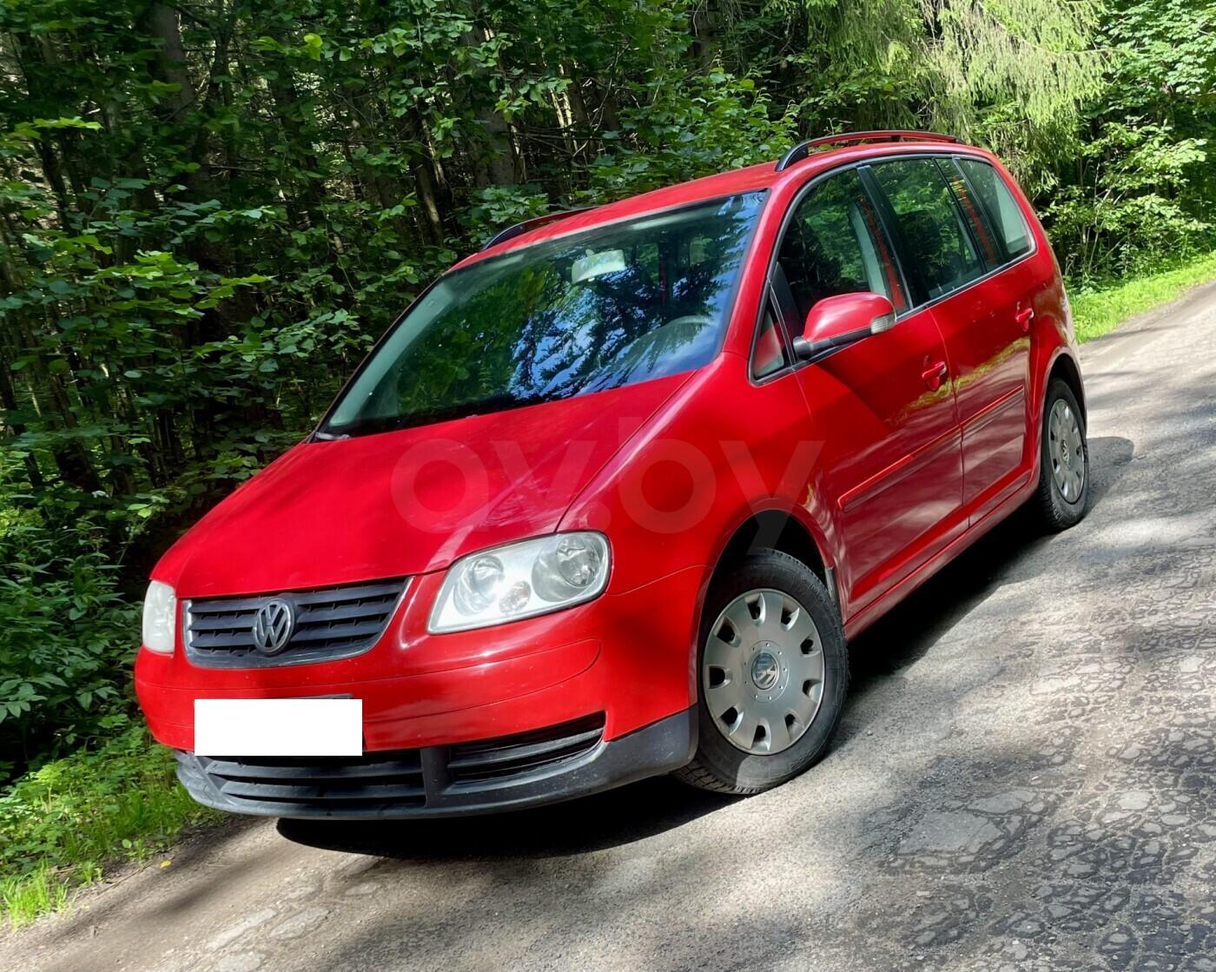Touran_2003-2006: (139, 137, 1091, 819)
